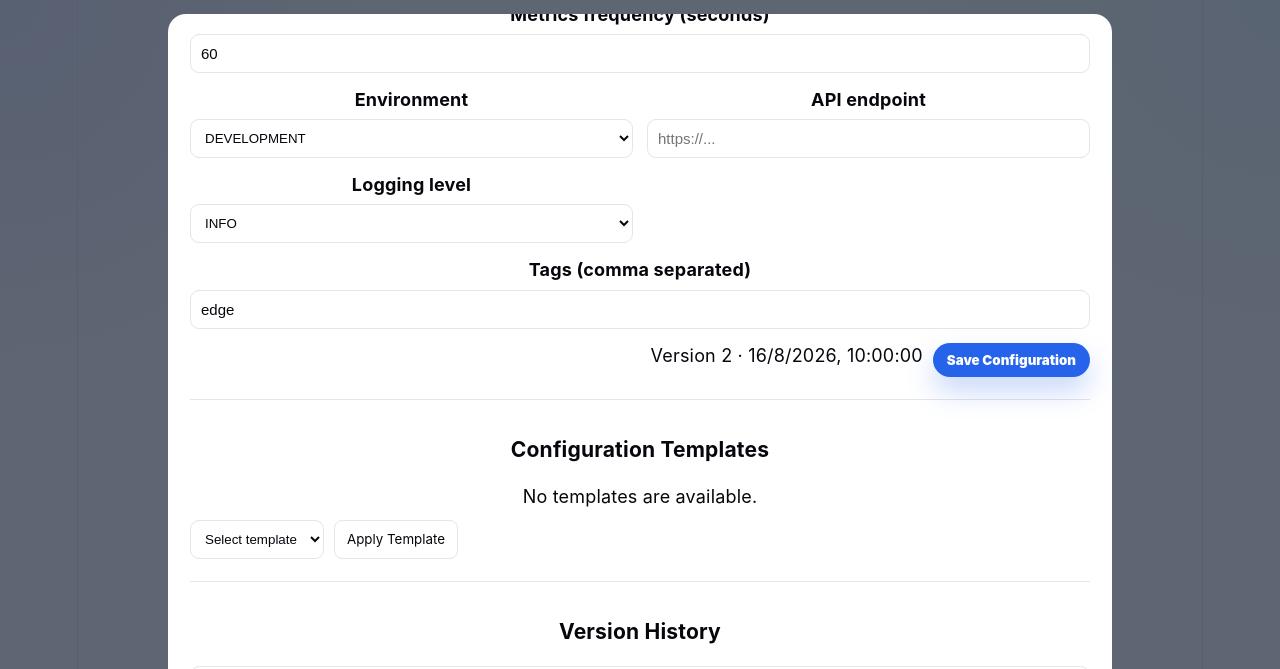
it: DeviceConfigurationDialog › saves configuration and reloads
(page scrolled)
Click the button "Save Configuration" at coordinates (1011, 360), box [933,343,1090,377]
(page scrolled)
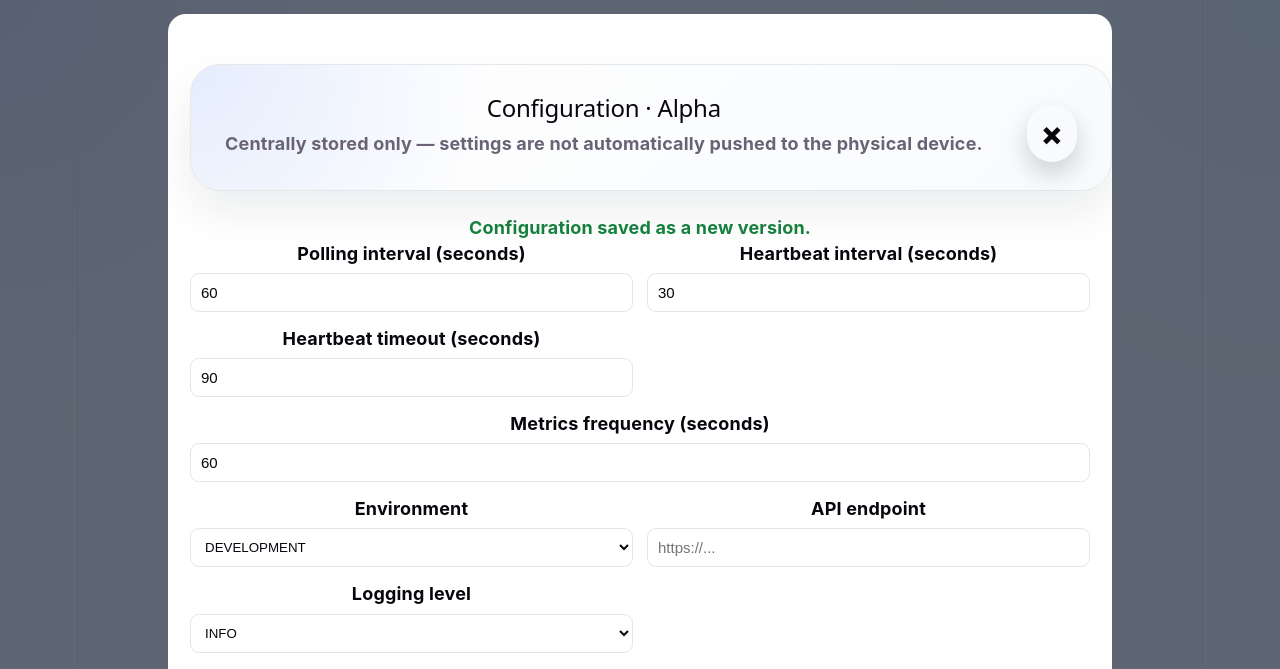
expect the text "Configuration saved as a new version." is shown: met, box [469,217,811,238]
